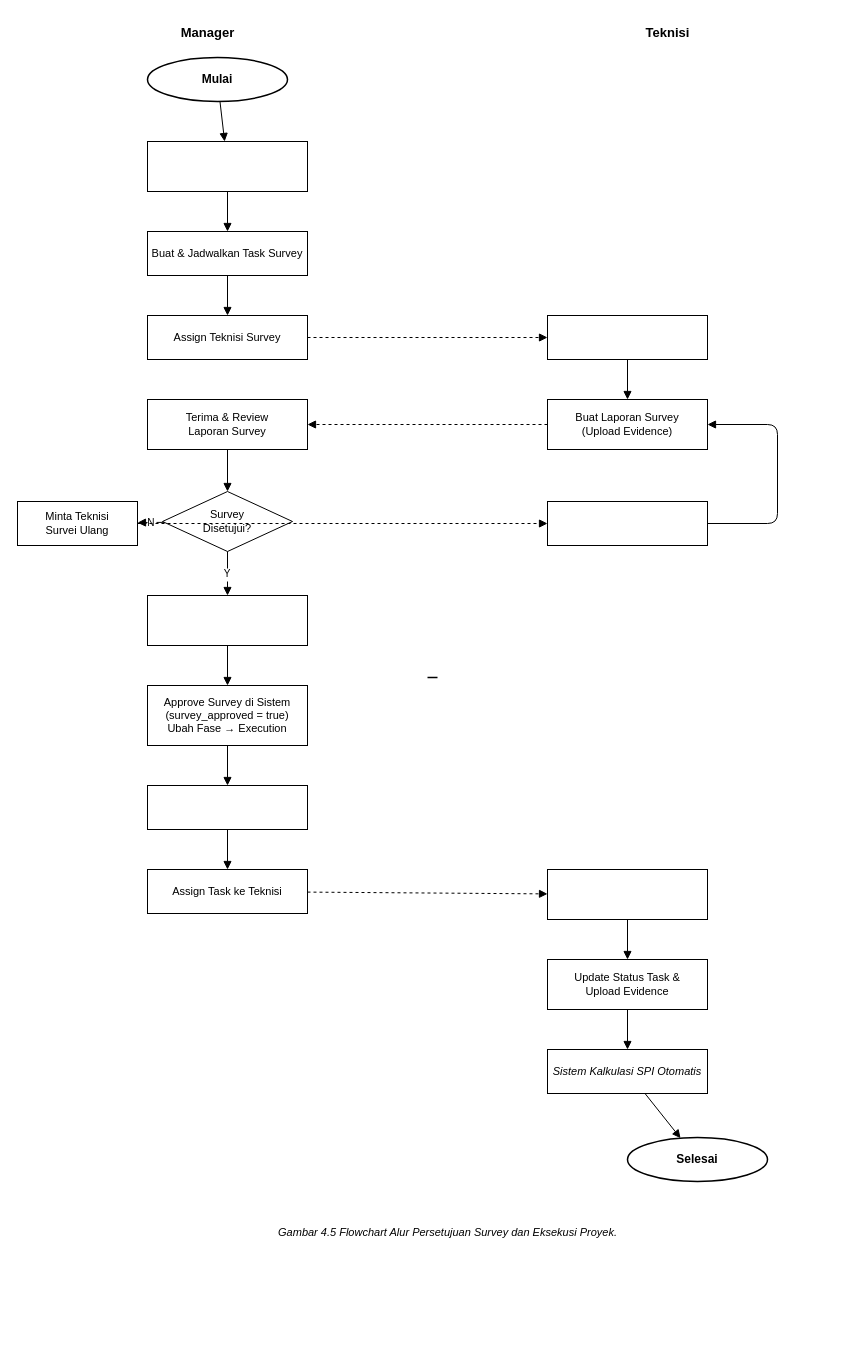
The diagram is 845 pixels wide and 1356 high, and some of its shapes have lost their labels. Here are the shapes that lost their labels. From the top down, the centre of each, then its label:
At point (227, 166): "Buat Proyek Baru [Fase: Survey]".
At point (627, 337): "Laksanakan Survey Lapangan".
At point (627, 523): "Lakukan Survei Ulang".
At point (227, 620): "Hubungi Client (Diskusi & Konfirmasi)".
At point (227, 807): "Susun Task-Task Proyek".
At point (627, 894): "Terima & Kerjakan Task Proyek".
